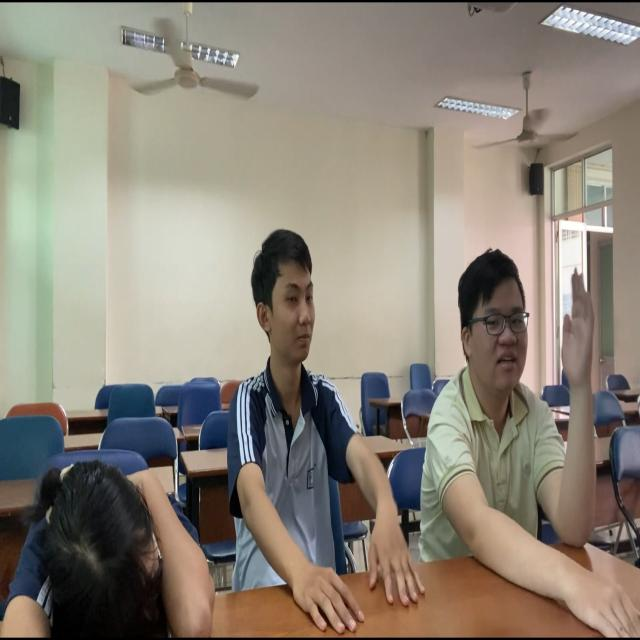raise_hand: (423, 246, 622, 608)
sleep: (8, 451, 222, 640)
